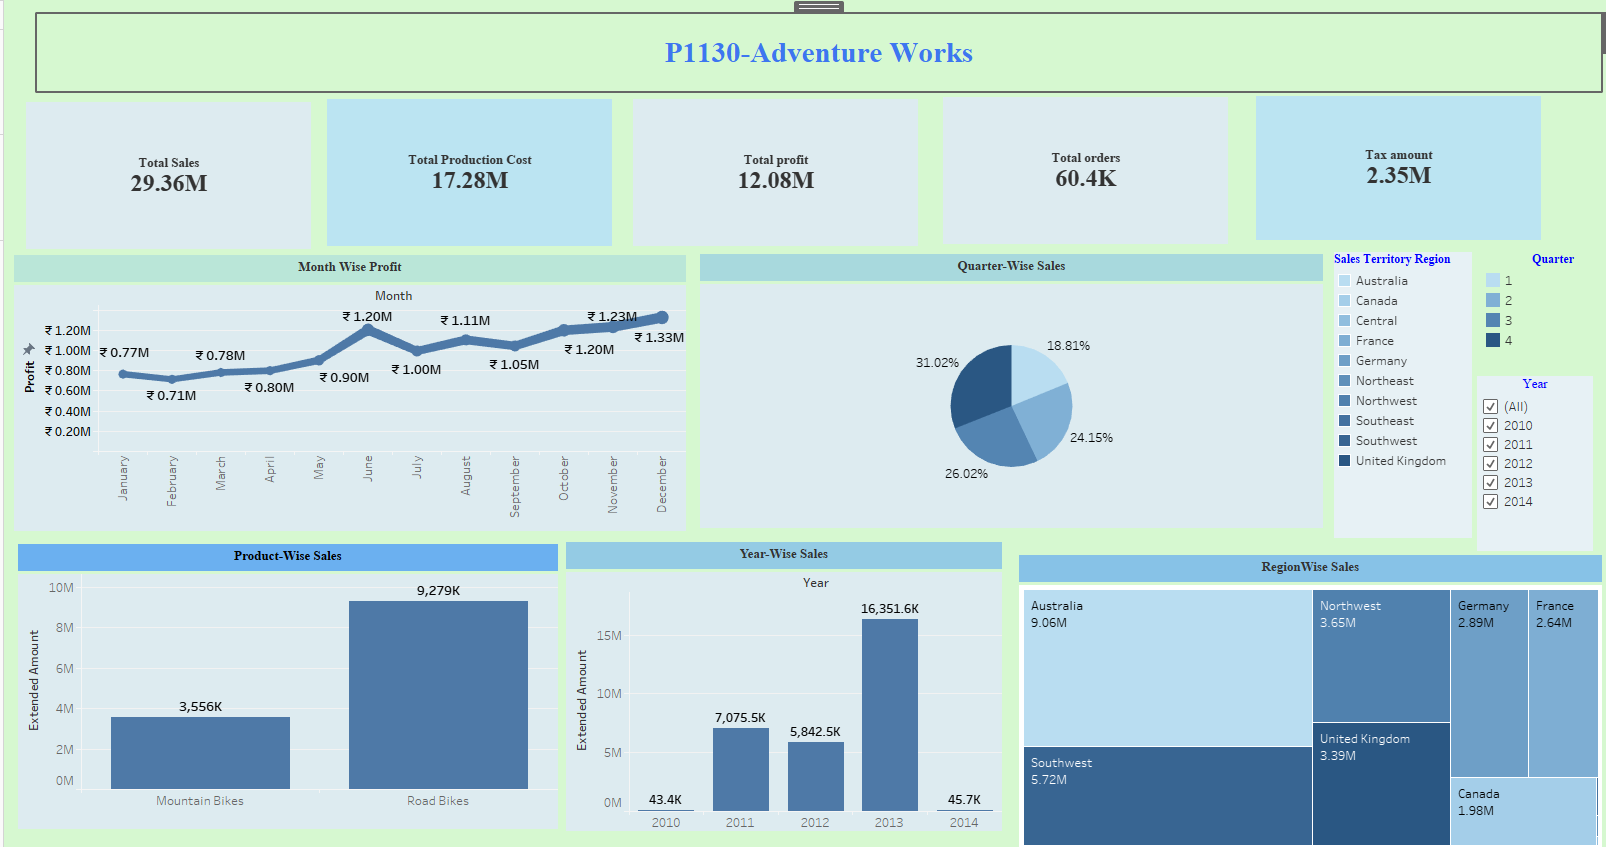

The dashboard page shown, as its layout file describes it:
{"tool":"tableau","page":{"name":"Dashboard 1","canvas":[1000,1000],"units":"permille","ordinal":0},"visuals":[{"type":"title","box":[20.4,16.2,965.4,89.8]},{"type":"worksheet","title":"Sheet 5","mark":"Text","box":[772.8,112.2,175.9,168.3]},{"type":"worksheet","title":"total orders","mark":"Text","box":[579.6,113.5,175.9,172.1]},{"type":"worksheet","title":"Q.5","mark":"Automatic","box":[199.4,116,175.9,172.1]},{"type":"worksheet","title":"total profit","mark":"Text","box":[388.3,116,175.9,172.1]},{"type":"worksheet","title":"Q.4","mark":"Automatic","box":[13.6,118.5,175.9,172.1]},{"type":"legend","title":"Sheet 10","param":"[federated.1o92utp15wnqda1deap5y07frsap].[none:SalesTerritoryRegion:nk]","box":[821,294.3,85.2,334.2]},{"type":"legend","title":"Sheet 7","param":"[federated.1o92utp15wnqda1deap5y07frsap].[none:Calculation_590534522151911430:ok","box":[913,294.3,86.4,144.6]},{"type":"worksheet","title":"Sheet 7","mark":"Pie","box":[429.6,296.8,384.6,319.2]},{"type":"worksheet","title":"Sheet 6","mark":"Line","rows":["Calculation_1090461767643139"],"cols":["Calculation_296674656188956675"],"box":[6.2,298,414.8,321.7]},{"type":"filter","title":"Sheet 9","param":"[federated.1o92utp15wnqda1deap5y07frsap].[none:Calculation_590534522150797315:ok","box":[909.3,438.9,71.6,204.5]},{"type":"worksheet","title":"Sheet 9","mark":"Automatic","rows":["ExtendedAmount"],"cols":["Calculation_590534522150797315"],"box":[346.9,632.2,269.1,337.9]},{"type":"worksheet","title":"Sheet 8","mark":"Automatic","rows":["ExtendedAmount"],"cols":["EnglishProductSubcategoryName"],"box":[8.6,634.7,333.3,332.9]},{"type":"worksheet","title":"Sheet 10","mark":"Automatic","box":[626.5,647.1,359.9,344.1]}]}

Visuals, with their boxes on the dashboard's canvas, which has no fixed pixel size, in thousandths of its width and height (x1, y1, x2, y2). These are canvas units, not pixel positions in the 1606x847 screenshot, which may show the page scaled, cropped or inside an application window:
title: 20, 16, 986, 106
"Sheet 5" worksheet (Text marks): 773, 112, 949, 280
"total orders" worksheet (Text marks): 580, 114, 756, 286
"Q.5" worksheet: 199, 116, 375, 288
"total profit" worksheet (Text marks): 388, 116, 564, 288
"Q.4" worksheet: 14, 118, 190, 291
"Sheet 10" legend: 821, 294, 906, 628
"Sheet 7" legend: 913, 294, 999, 439
"Sheet 7" worksheet (Pie marks): 430, 297, 814, 616
"Sheet 6" worksheet (Line marks): 6, 298, 421, 620
"Sheet 9" filter: 909, 439, 981, 643
"Sheet 9" worksheet: 347, 632, 616, 970
"Sheet 8" worksheet: 9, 635, 342, 968
"Sheet 10" worksheet: 626, 647, 986, 991
